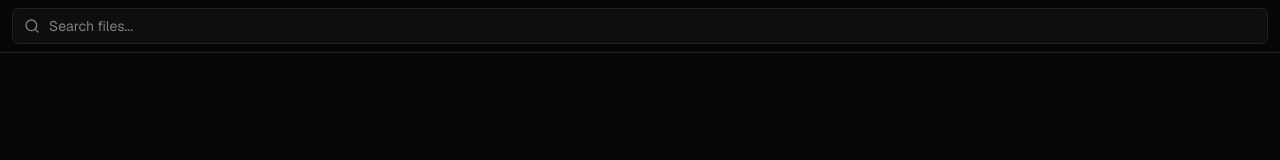
Test: FileNameSearch › Search results with fuzzy matching › should display fuzzy search results
Type "app" into the field with placeholder "Search files..." at {"x": 640, "y": 26}, box [12,8,1268,44]
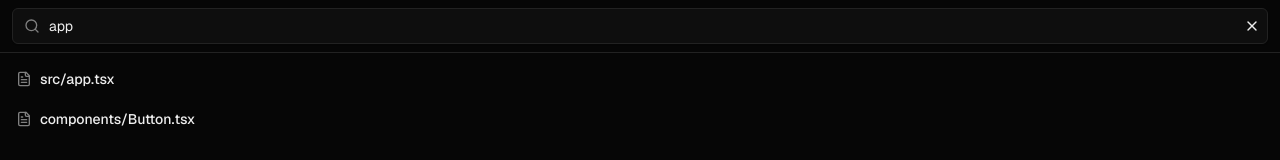
Check: the text "src/app.tsx" is shown, box [40,70,115,88]
Check: the text "components/Button.tsx" is shown, box [40,110,195,128]
